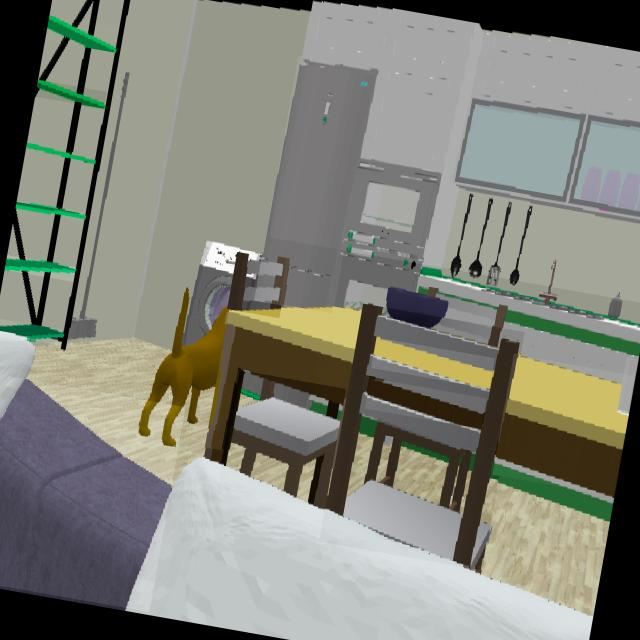cabinet: (303, 2, 640, 267)
chair: (325, 304, 518, 568), (222, 371, 339, 507), (228, 253, 288, 311), (214, 327, 235, 430)
fridge: (263, 63, 374, 308)
microwave: (344, 160, 438, 257)
shelf: (47, 15, 115, 51), (36, 80, 103, 107), (26, 142, 92, 162), (16, 202, 85, 217), (0, 325, 63, 341), (5, 259, 75, 273)
sofa: (0, 380, 170, 607)
table: (216, 307, 360, 449), (497, 356, 628, 496), (375, 339, 492, 388), (368, 379, 482, 428)
